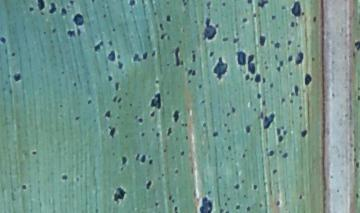tarspot: (201, 16, 219, 41), (211, 56, 229, 80), (259, 112, 278, 132), (198, 193, 215, 213), (112, 184, 127, 205), (148, 90, 164, 109), (289, 1, 305, 19), (172, 45, 184, 68), (72, 10, 87, 27), (236, 47, 247, 70), (246, 52, 258, 73), (303, 70, 314, 89), (290, 82, 302, 99), (171, 105, 181, 125), (105, 48, 118, 63), (294, 49, 304, 68), (105, 125, 119, 138), (255, 33, 268, 47), (144, 177, 154, 194), (119, 152, 129, 168), (47, 1, 57, 17), (35, 1, 47, 13), (232, 181, 244, 193), (11, 72, 24, 83), (93, 38, 104, 51), (130, 52, 141, 65), (72, 112, 83, 125), (136, 114, 146, 128), (241, 123, 253, 134), (186, 66, 197, 78), (240, 15, 251, 27), (57, 6, 70, 16), (111, 79, 121, 92), (298, 129, 312, 138), (102, 108, 113, 119), (257, 1, 268, 12), (269, 165, 280, 176), (254, 89, 264, 101), (286, 53, 296, 65), (190, 50, 198, 65), (233, 201, 243, 213), (111, 93, 123, 103), (18, 183, 31, 192), (164, 12, 173, 25), (166, 125, 175, 138), (254, 72, 262, 86), (275, 134, 286, 144), (250, 182, 260, 193), (152, 130, 164, 139), (177, 147, 186, 159), (273, 197, 282, 209), (139, 152, 147, 165), (141, 48, 149, 61), (1, 34, 9, 47), (59, 173, 69, 183), (272, 40, 283, 49), (30, 148, 39, 159), (311, 13, 319, 25), (150, 47, 158, 59), (207, 48, 216, 58), (280, 151, 291, 159), (139, 129, 147, 140), (211, 130, 221, 138), (148, 111, 158, 119), (267, 148, 275, 158), (9, 50, 17, 60), (106, 73, 114, 82), (146, 157, 155, 165), (287, 36, 293, 48), (153, 200, 162, 208), (244, 72, 251, 82), (128, 1, 136, 8), (67, 33, 75, 38)
